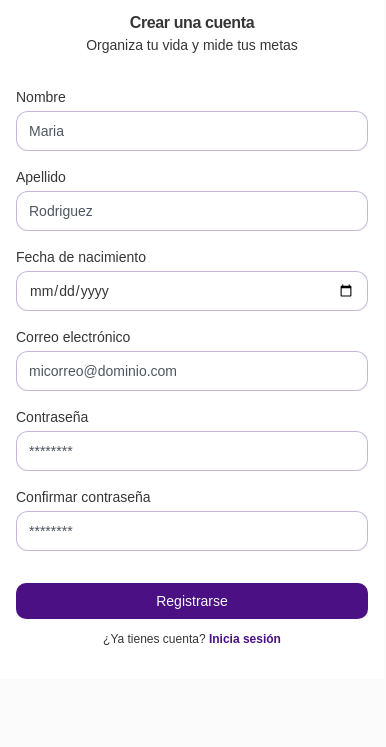
RegisterForm › shows required field errors when submitting empty form
The image size is (386, 747).
Click the button "Registrarse".
click(192, 601)  # box x1=16 y1=583 x2=368 y2=619
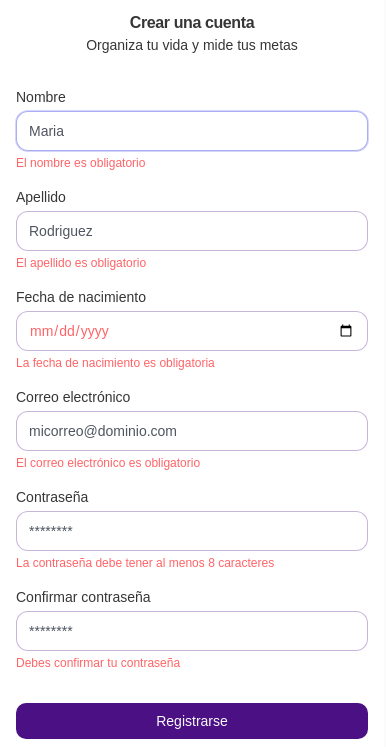
Result: the text "El nombre es obligatorio" is shown at x1=16 y1=156 x2=145 y2=170
Result: the text "El apellido es obligatorio" is shown at x1=16 y1=256 x2=146 y2=270
Result: the text "La fecha de nacimiento es obligatoria" is shown at x1=16 y1=356 x2=215 y2=370
